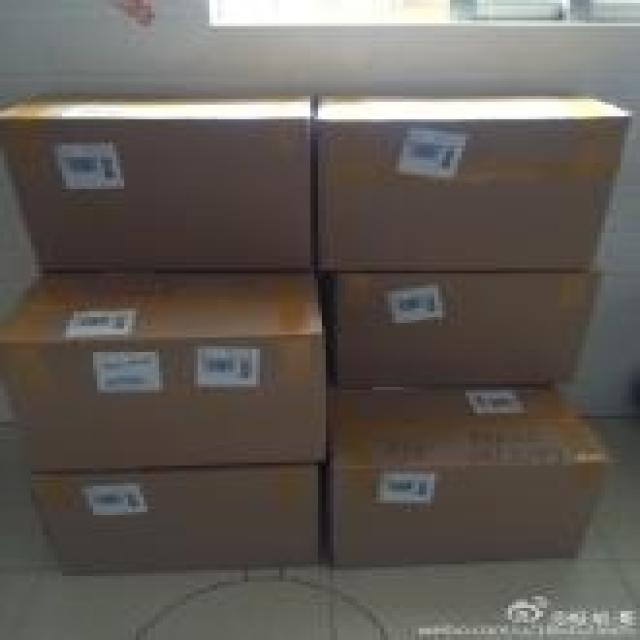box: (0, 268, 326, 471), (310, 90, 632, 271), (0, 90, 318, 268), (322, 387, 617, 567), (27, 463, 326, 576), (330, 268, 605, 387)
